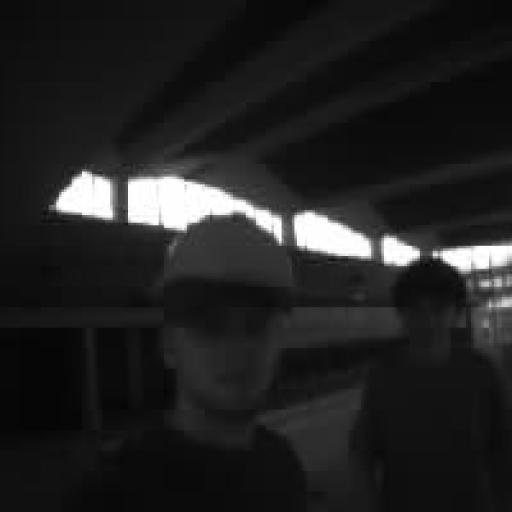human: (67, 216, 307, 511), (349, 256, 511, 511)
